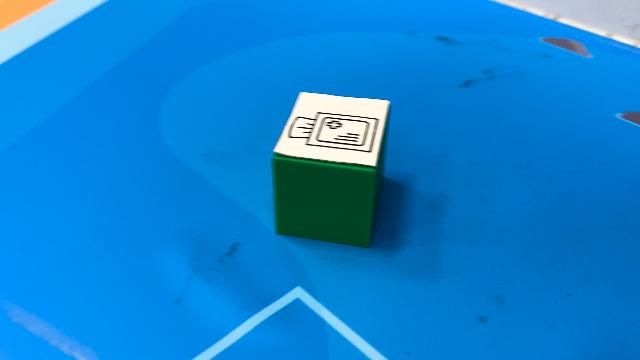napkin: (269, 89, 393, 249)
